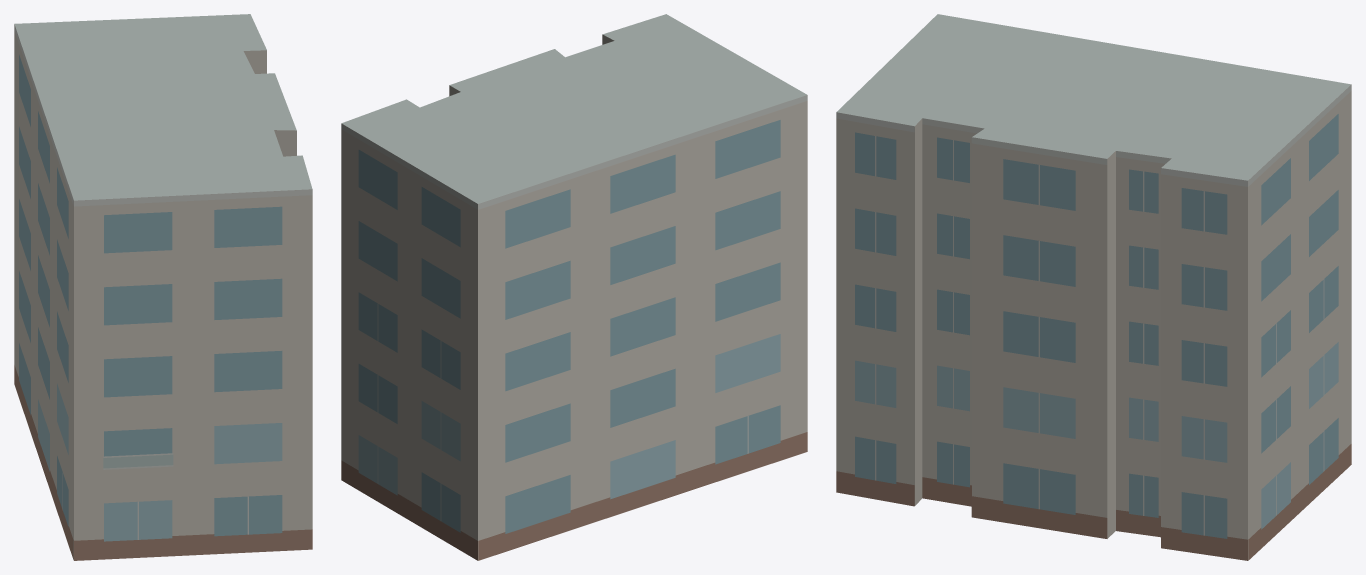
File: survey-upis-32562492.glb
3 views of the same model, side by side, from view 1: azimuth 30°, elevation 25°; view 2: azimuth 150°, elevation 25°; view 3: azimuth 270°, elevation 25° (orthographic). The views are drawn at different scales.
Visible parts, largest first — view 1: survey-upis-32562492.tmp; view 2: survey-upis-32562492.tmp; view 3: survey-upis-32562492.tmp.
Boxes of the visible parts, x1=… form: survey-upis-32562492.tmp: x1=14, y1=14, x2=312, y2=560; survey-upis-32562492.tmp: x1=341, y1=14, x2=807, y2=560; survey-upis-32562492.tmp: x1=836, y1=14, x2=1351, y2=560.
Bounding box in the file's own units: 14.02 × 14.9 × 18.31.
